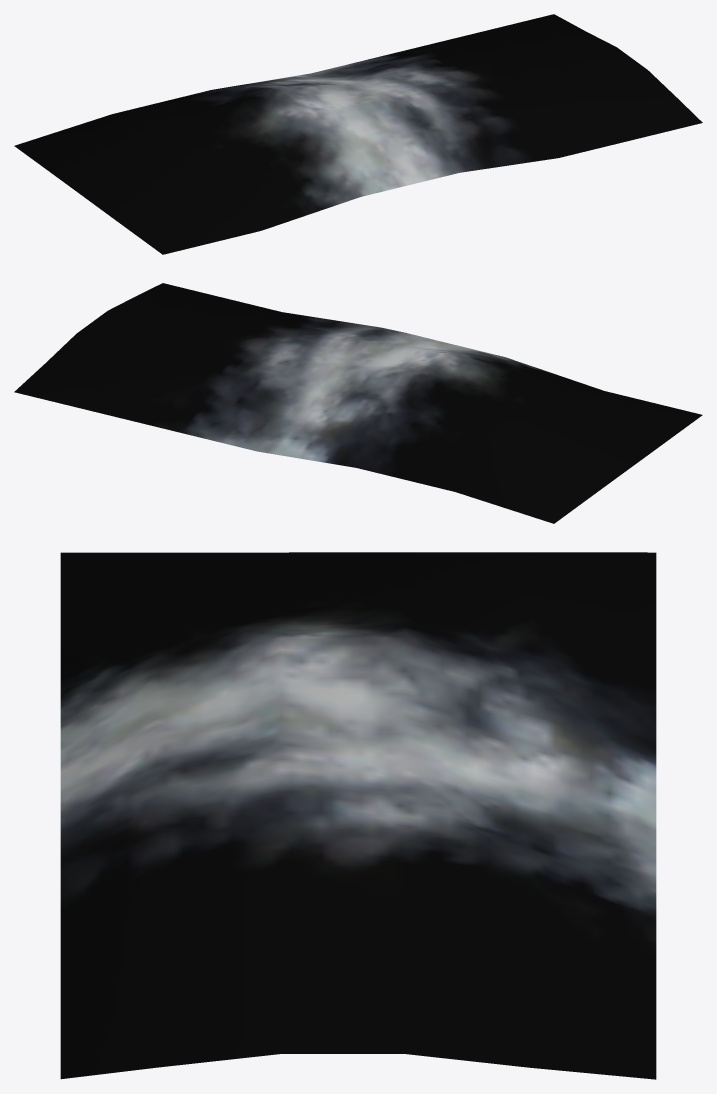
The model's file is steam_pile.fbx.
The picture shows the model from 3 angles, top to bottom: view 1: azimuth 30°, elevation 25°; view 2: azimuth 150°, elevation 25°; view 3: azimuth 270°, elevation 25°; orthographic projection. The views are drawn at different scales.
Visible parts, largest first — view 1: pPlane1; view 2: pPlane1; view 3: pPlane1.
Part boxes in pixels (left/top/right/bottom): pPlane1: left=14, top=14, right=702, bottom=254; pPlane1: left=14, top=283, right=702, bottom=523; pPlane1: left=60, top=552, right=656, bottom=1079.
Bounding box in the file's own units: 96.04 × 9.17 × 45.86.
